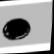correct: (0, 15, 36, 44)
